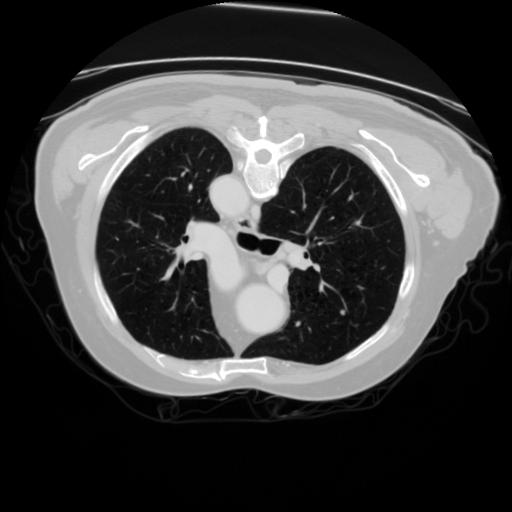nodule: (338, 308, 350, 320)
